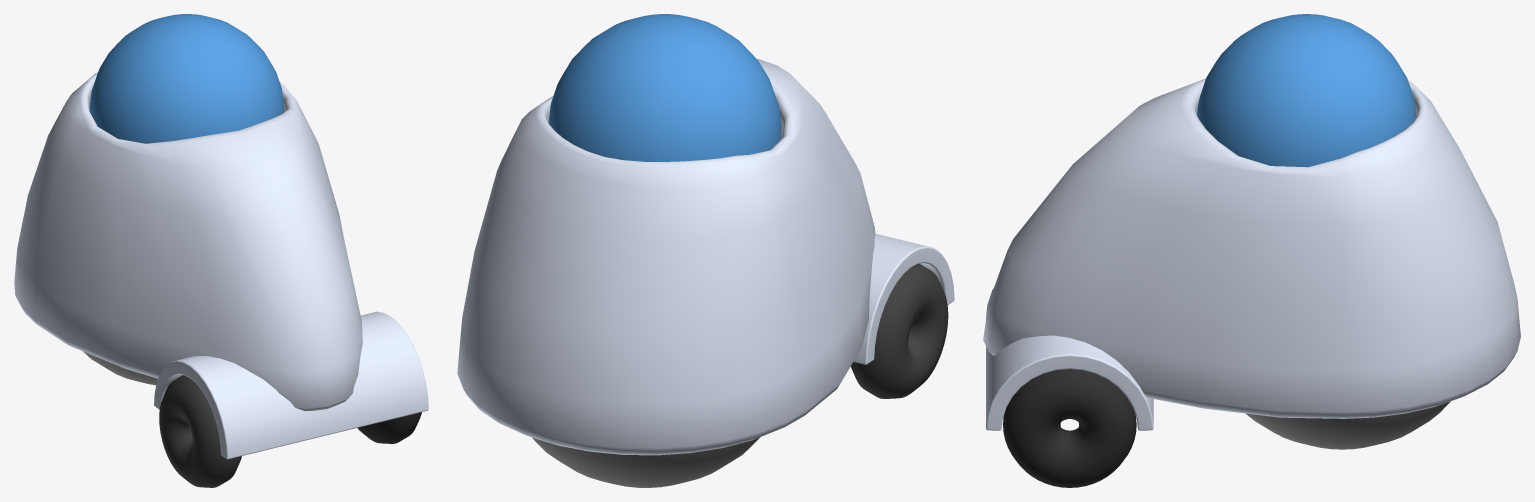
File: worker_bot.gltf
3 views of the same model, side by side, from view 1: azimuth 30°, elevation 25°; view 2: azimuth 150°, elevation 25°; view 3: azimuth 270°, elevation 25° (orthographic). The views are drawn at different scales.
Parts seen in each view (by area): view 1: body, generator, wheel_chassis, wheel_left, wheel_right, ball; view 2: body, generator, wheel_left, ball, wheel_chassis; view 3: body, generator, wheel_right, wheel_chassis, ball.
Part boxes in pixels (box(x1,y1,x2,y2)): body: box(14, 72, 362, 411); generator: box(89, 14, 284, 143); wheel_chassis: box(154, 311, 428, 459); wheel_left: box(159, 375, 241, 487); wheel_right: box(357, 412, 421, 443); ball: box(83, 351, 157, 385); body: box(457, 59, 875, 455); generator: box(548, 14, 781, 161); wheel_left: box(850, 264, 948, 398); ball: box(532, 437, 760, 487); wheel_chassis: box(853, 233, 954, 364); body: box(983, 78, 1520, 418); generator: box(1197, 14, 1416, 167); wheel_right: box(1003, 369, 1136, 487); wheel_chassis: box(986, 288, 1153, 430); ball: box(1246, 401, 1450, 449).
Size of the model in its own units: 2 by 2.54 by 3.01.
